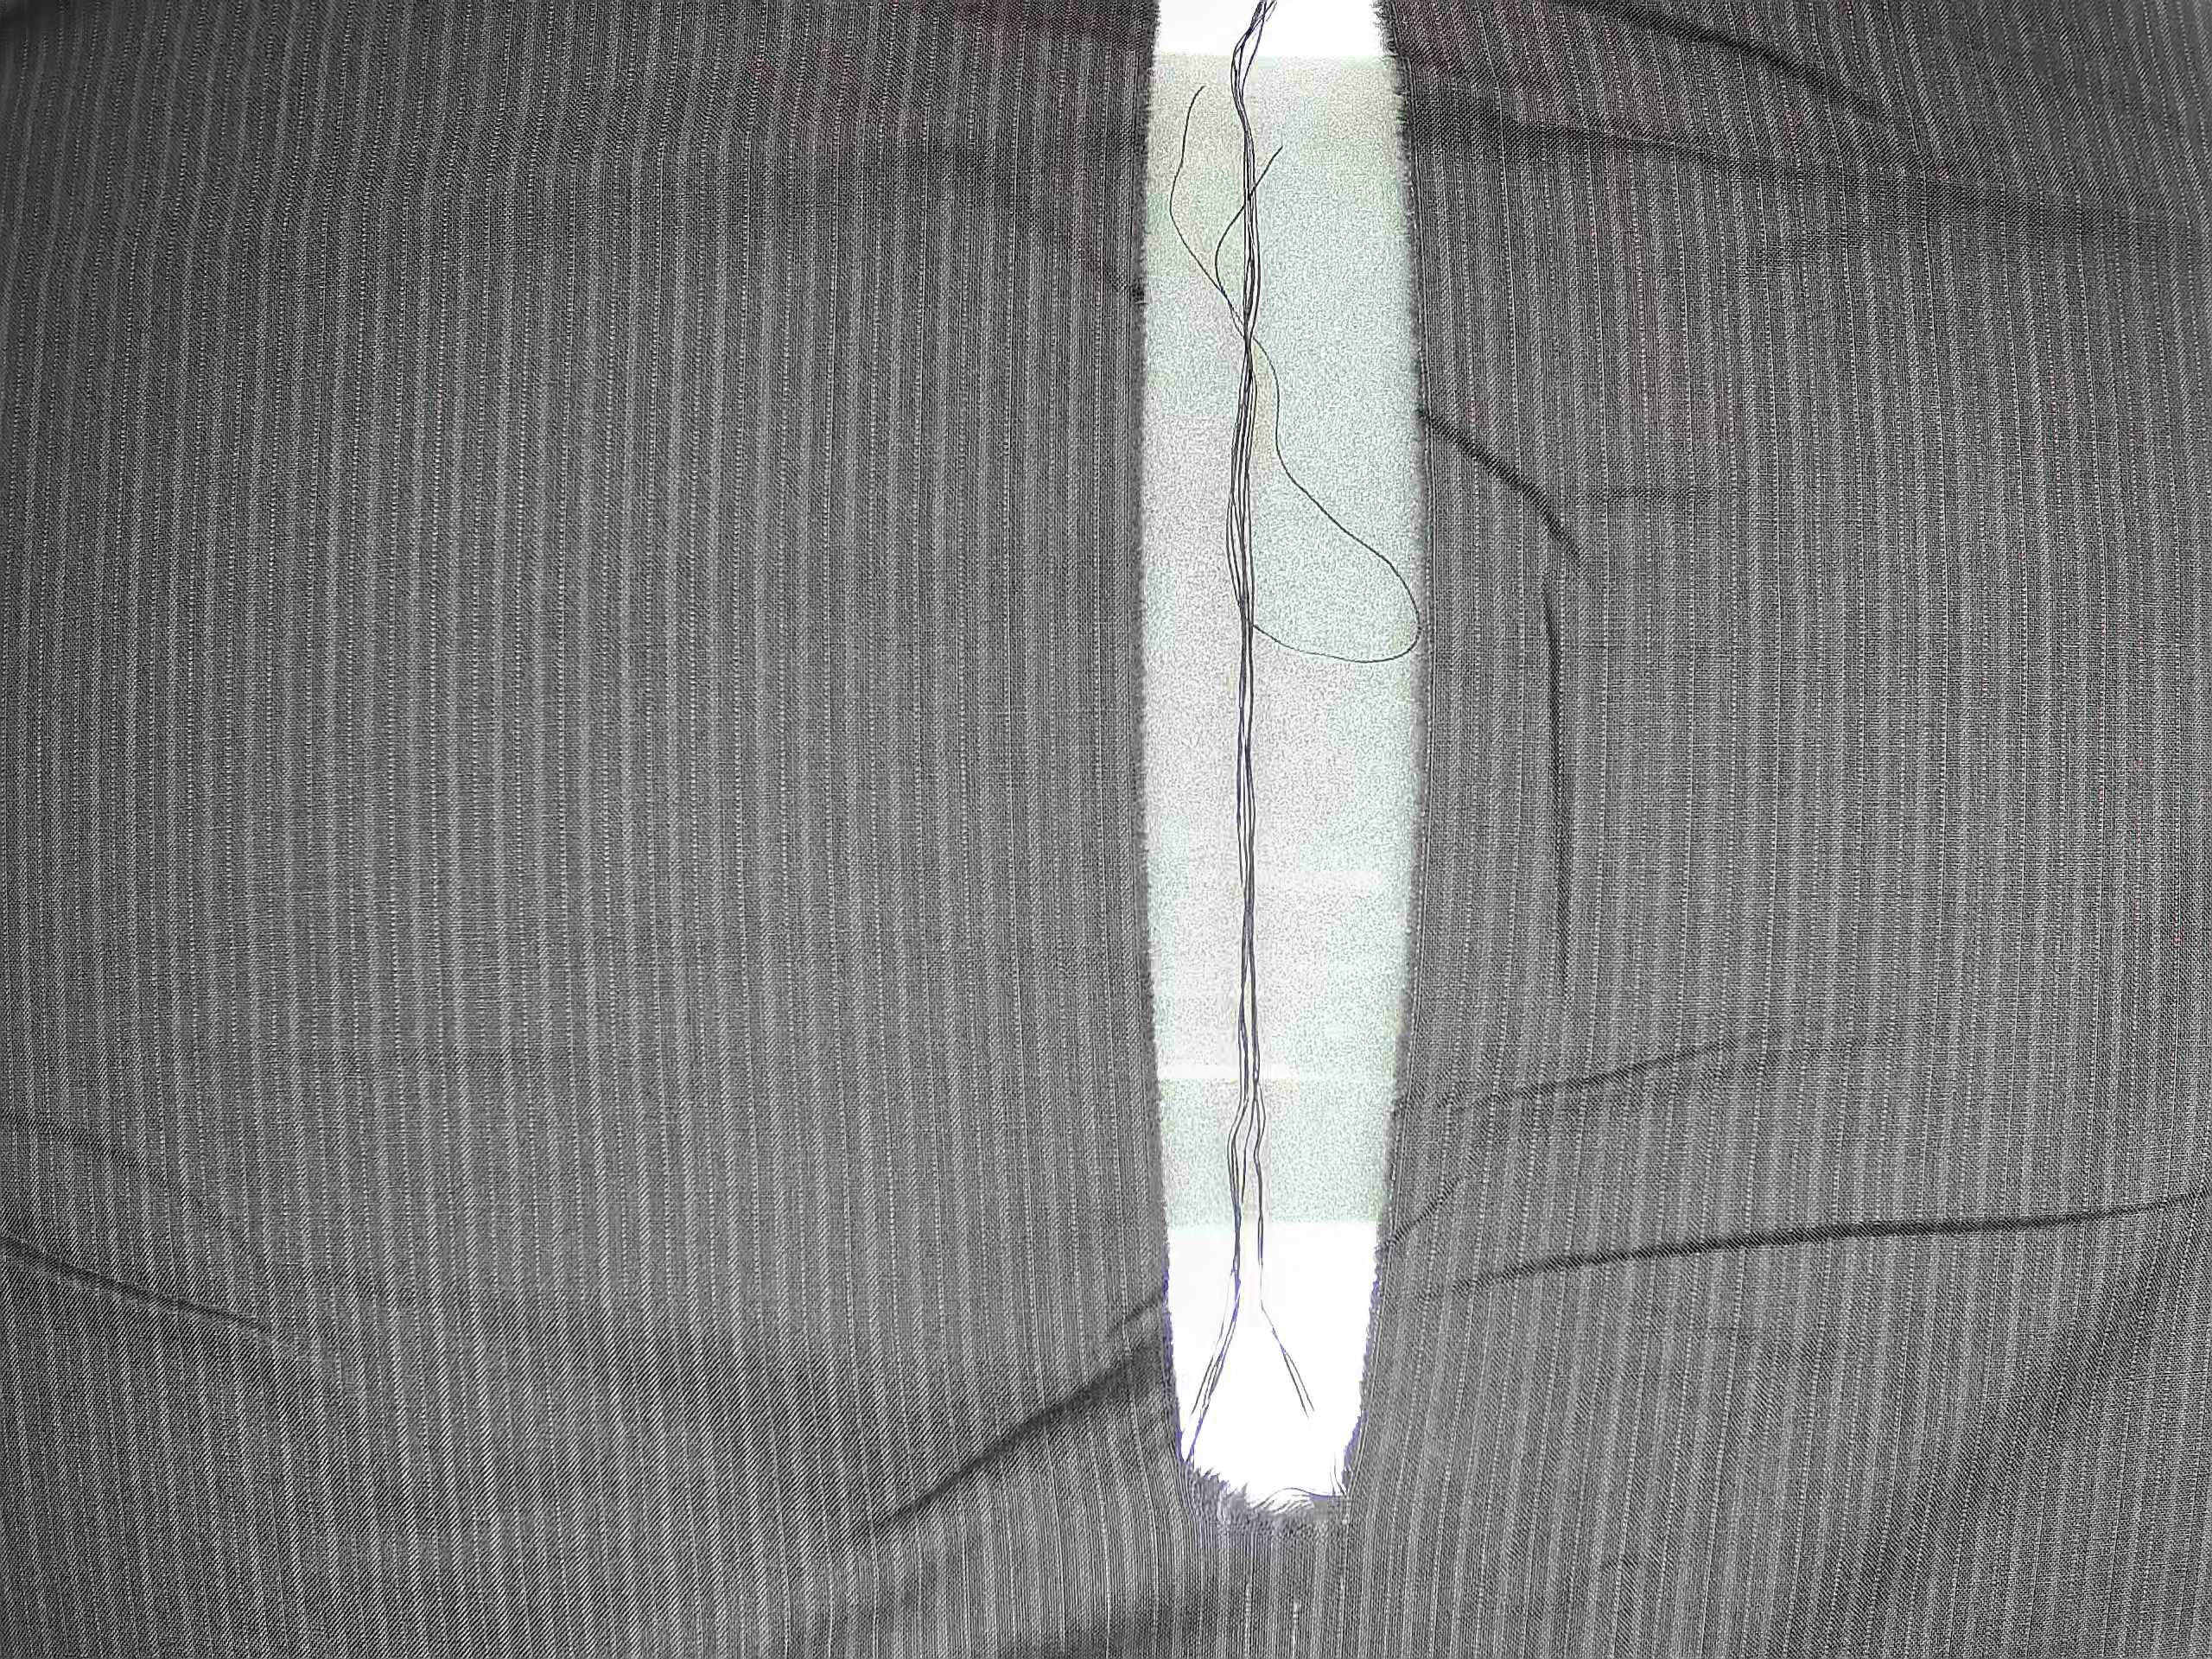puncture-hole: (1057, 5, 1531, 1591)
